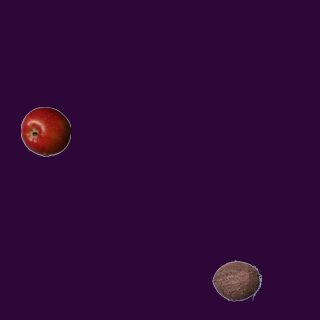Apple Braeburn: (20, 106, 70, 156)
Cocos: (211, 255, 261, 305)
